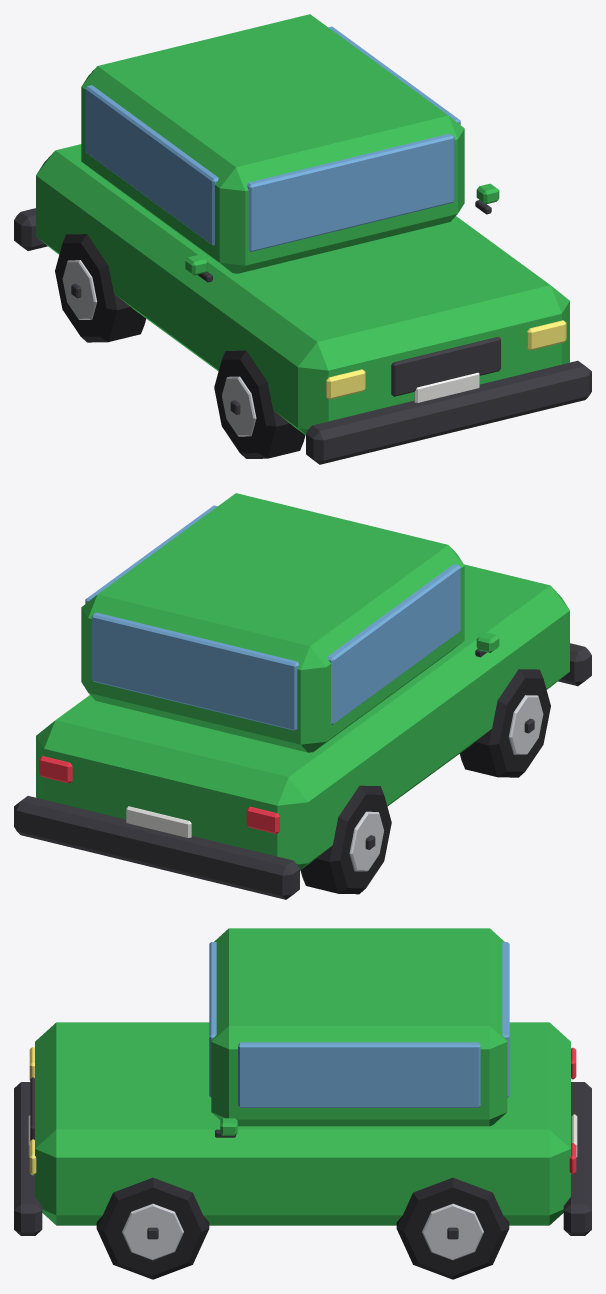
The model's file is Hatchback.fbx.
The picture shows the model from 3 angles, top to bottom: view 1: azimuth 30°, elevation 25°; view 2: azimuth 150°, elevation 25°; view 3: azimuth 270°, elevation 25°; orthographic projection. The views are drawn at different scales.
Visible parts, largest first — view 1: Hatchback, Hatchback_WheelBR, Hatchback_WheelFR; view 2: Hatchback, Hatchback_WheelFR, Hatchback_WheelBR; view 3: Hatchback, Hatchback_WheelBL, Hatchback_WheelFL.
Boxes of the visible parts, left/top/right/bottom form: Hatchback: left=14, top=14, right=591, bottom=464; Hatchback_WheelBR: left=55, top=234, right=145, bottom=342; Hatchback_WheelFR: left=214, top=350, right=305, bottom=458; Hatchback: left=14, top=493, right=591, bottom=899; Hatchback_WheelFR: left=460, top=669, right=550, bottom=777; Hatchback_WheelBR: left=300, top=785, right=391, bottom=894; Hatchback: left=14, top=928, right=591, bottom=1235; Hatchback_WheelBL: left=396, top=1177, right=509, bottom=1279; Hatchback_WheelFL: left=96, top=1177, right=209, bottom=1279.
Bounding box in the file's own units: 4.75 × 3.76 × 8.2.
Materials: 1 (1 with a texture image).
